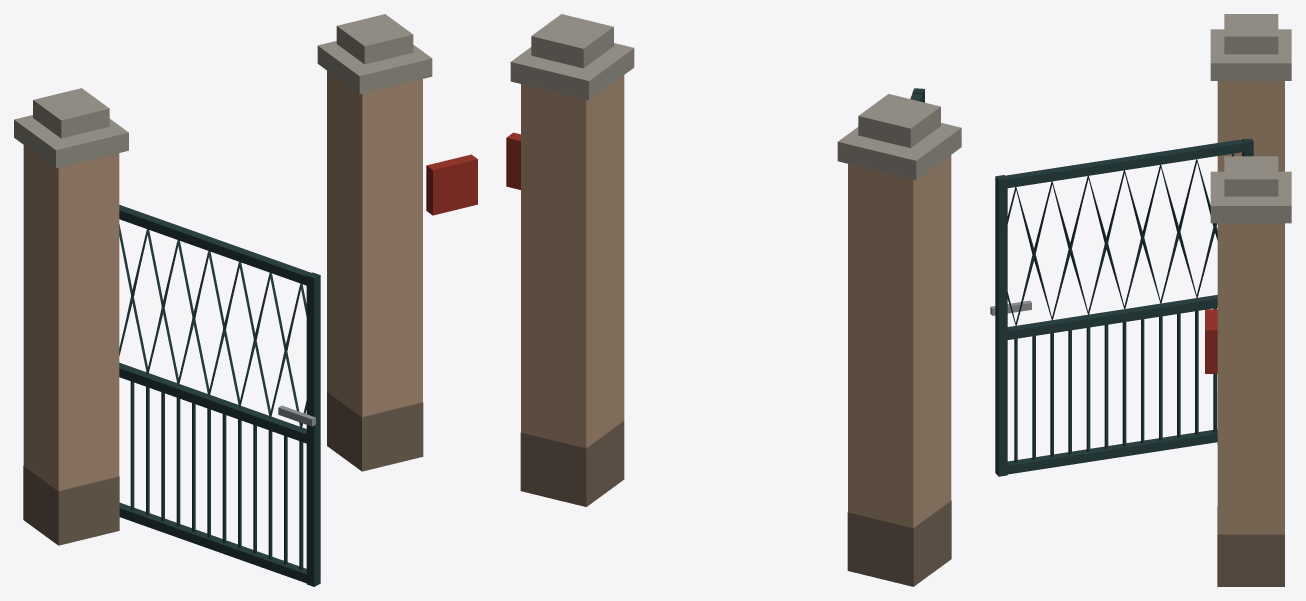
The model's file is cong_sau_mo.glb.
The picture shows the model from 3 angles, left to right: view 1: azimuth 30°, elevation 25°; view 2: azimuth 150°, elevation 25°; view 3: azimuth 270°, elevation 25°; orthographic projection. The views are drawn at different scales.
Parts seen in each view (by area): view 1: cong_sau__mo; view 2: cong_sau__mo; view 3: cong_sau__mo.
Part boxes in pixels (x1,y1,x2,y2): cong_sau__mo: (14, 14, 477, 586); cong_sau__mo: (506, 14, 961, 586); cong_sau__mo: (990, 14, 1291, 586).
Bounding box in the file's own units: 2.41 × 2.32 × 1.56.
